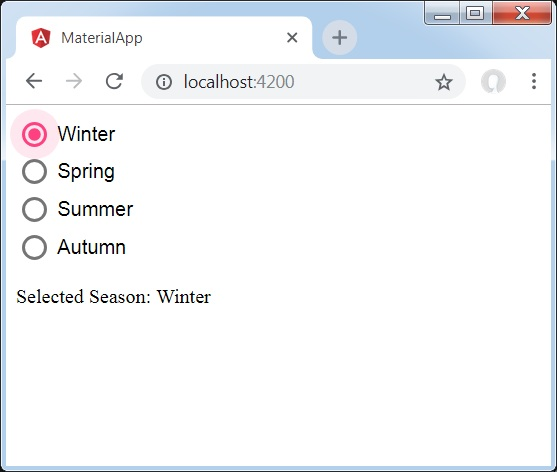radiobutton: (7, 107, 58, 156), (11, 233, 54, 268), (13, 156, 51, 189), (13, 195, 49, 224)
